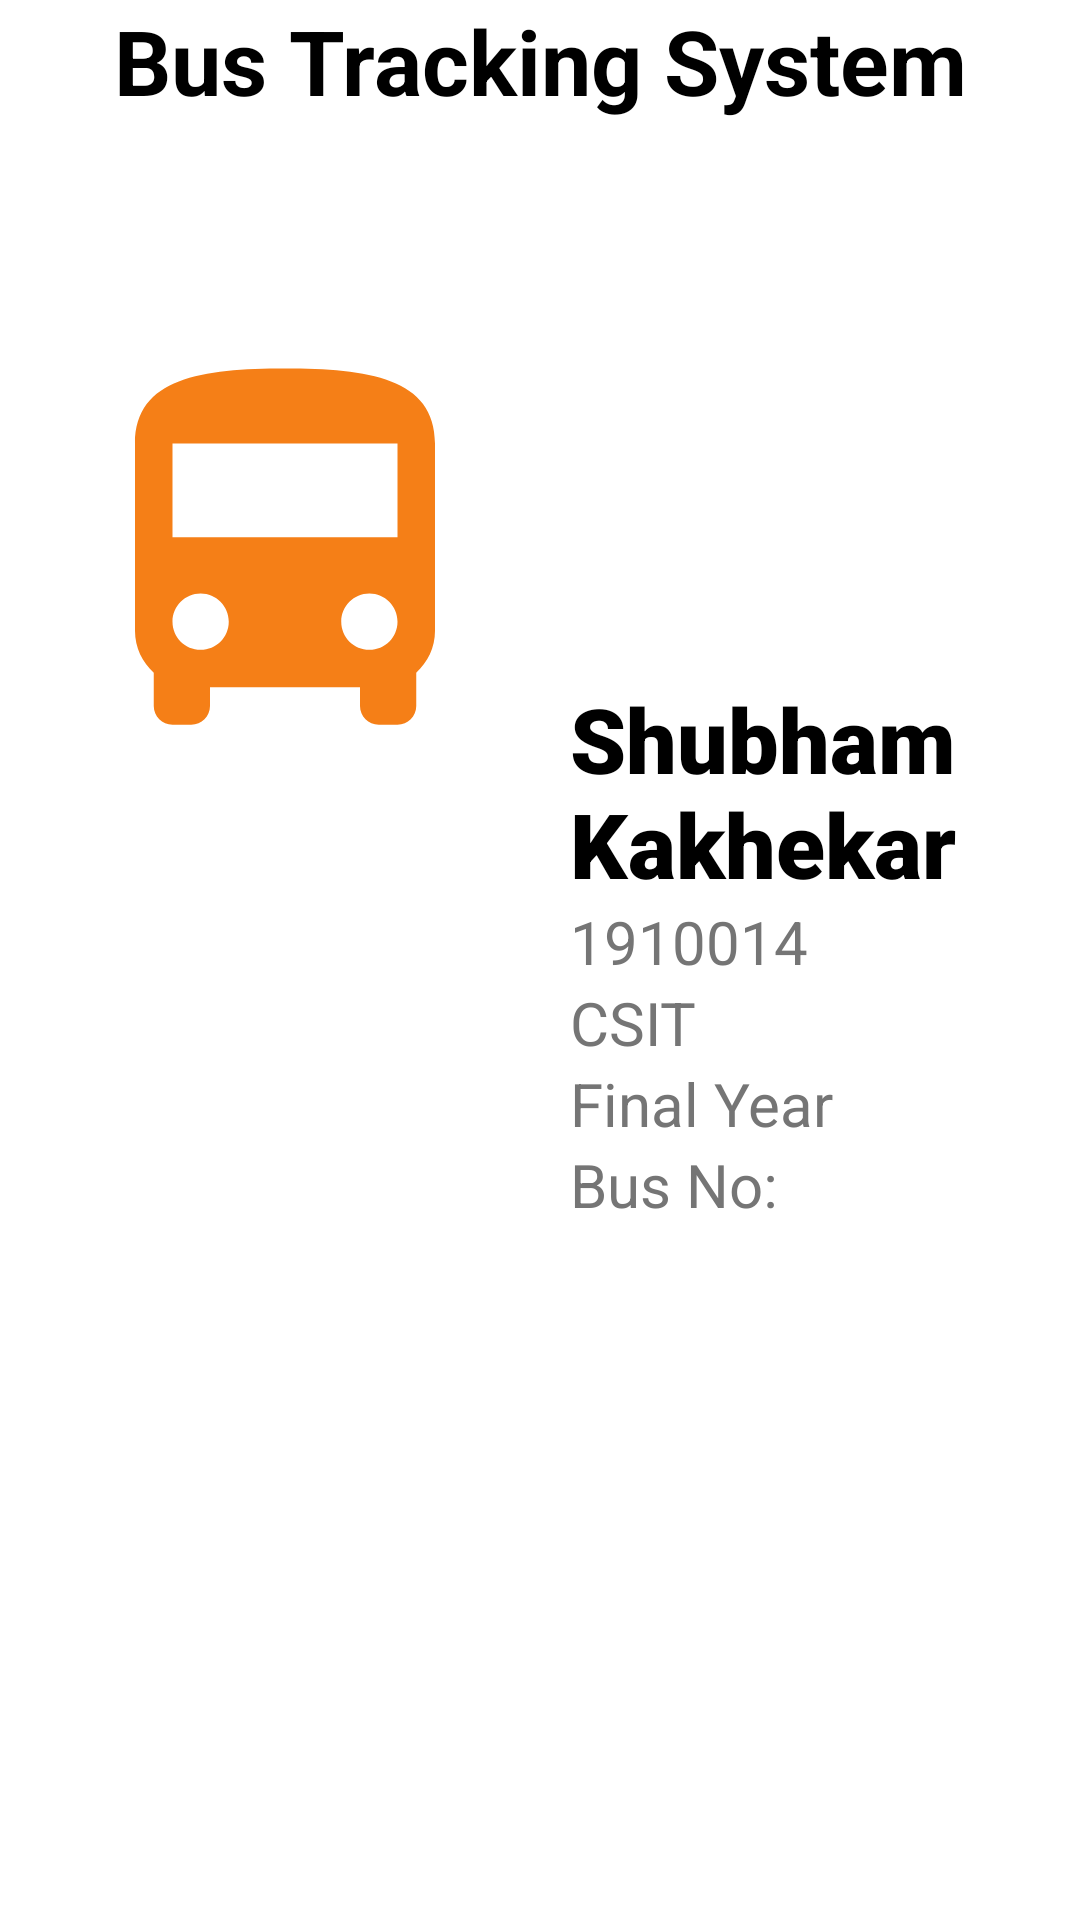

Named icons in this screenshot (1080px x 1920px) and their centers, (x=x, y=y):
directions bus: (x=285, y=546)
